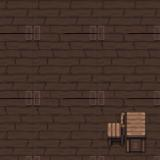Obstacle: (97, 98, 160, 160)
